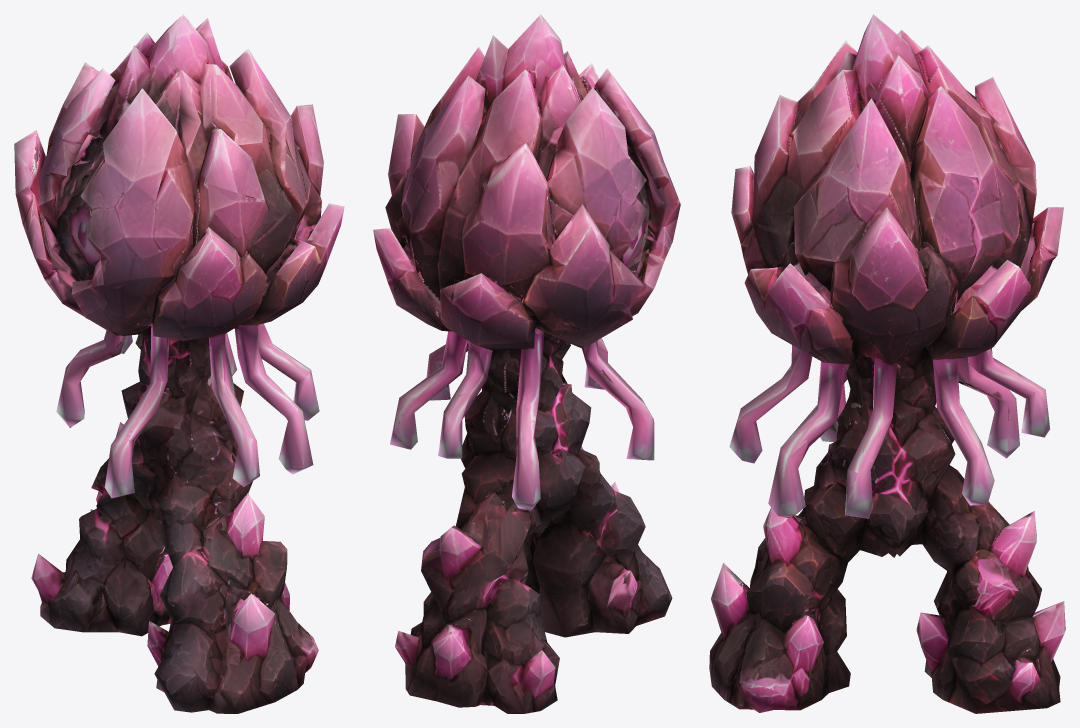
The model's file is dizes_mender.fbx.
3 renders of one model, left to right at view 1: azimuth 30°, elevation 25°; view 2: azimuth 150°, elevation 25°; view 3: azimuth 270°, elevation 25°, orthographic. The views are drawn at different scales.
Visible parts, largest first — view 1: dizes_mender; view 2: dizes_mender; view 3: dizes_mender.
Part boxes in pixels (box(x1,y1,x2,y2)): dizes_mender: box(14, 14, 344, 713); dizes_mender: box(373, 14, 680, 713); dizes_mender: box(709, 14, 1065, 713).
Bounding box in the file's own units: 0.3467 × 0.8 × 0.3872.
Materials: 1 (1 with a texture image).
